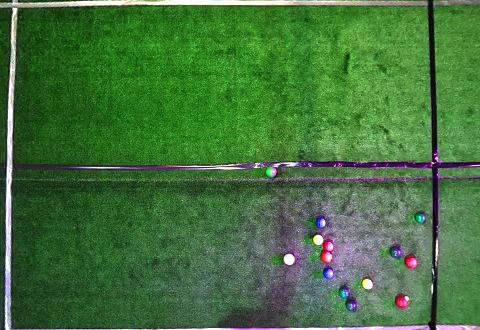blue: (315, 217, 326, 228), (323, 268, 333, 280)
green: (390, 246, 402, 258), (338, 288, 350, 299), (346, 300, 357, 312), (415, 212, 426, 223), (266, 167, 277, 178)
red: (405, 256, 418, 269), (395, 296, 407, 309), (283, 253, 295, 265), (320, 251, 332, 263), (323, 241, 334, 252)
vline: (427, 0, 479, 329), (0, 0, 21, 329)
white: (405, 296, 409, 301)
yellow: (362, 279, 373, 290), (313, 235, 323, 245)
